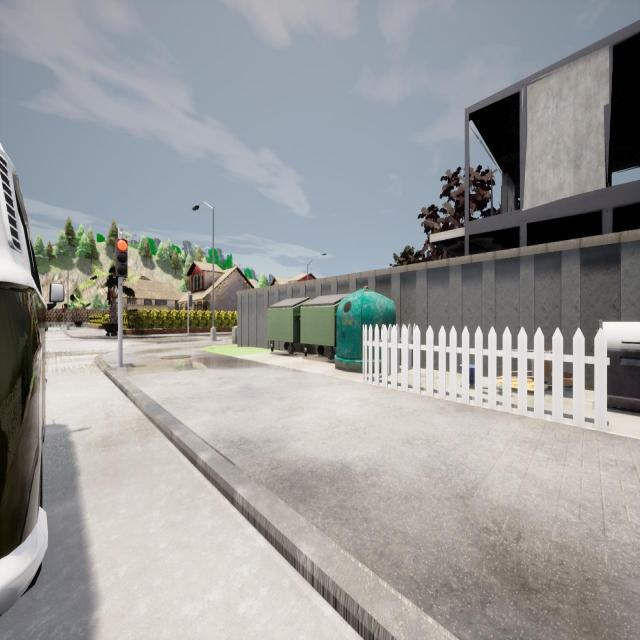Vehicle: (0, 145, 66, 614)
traffic_light: (116, 238, 128, 278), (188, 294, 194, 307), (62, 305, 65, 312)
